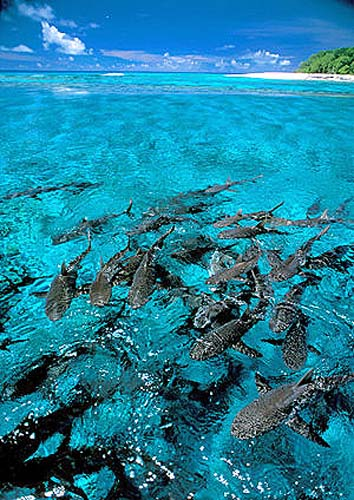Carcharhinus_amblyrhynchos: (39, 199, 354, 451)
